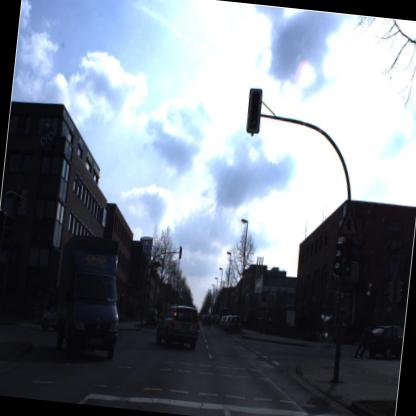danger: (334, 198, 362, 244)
